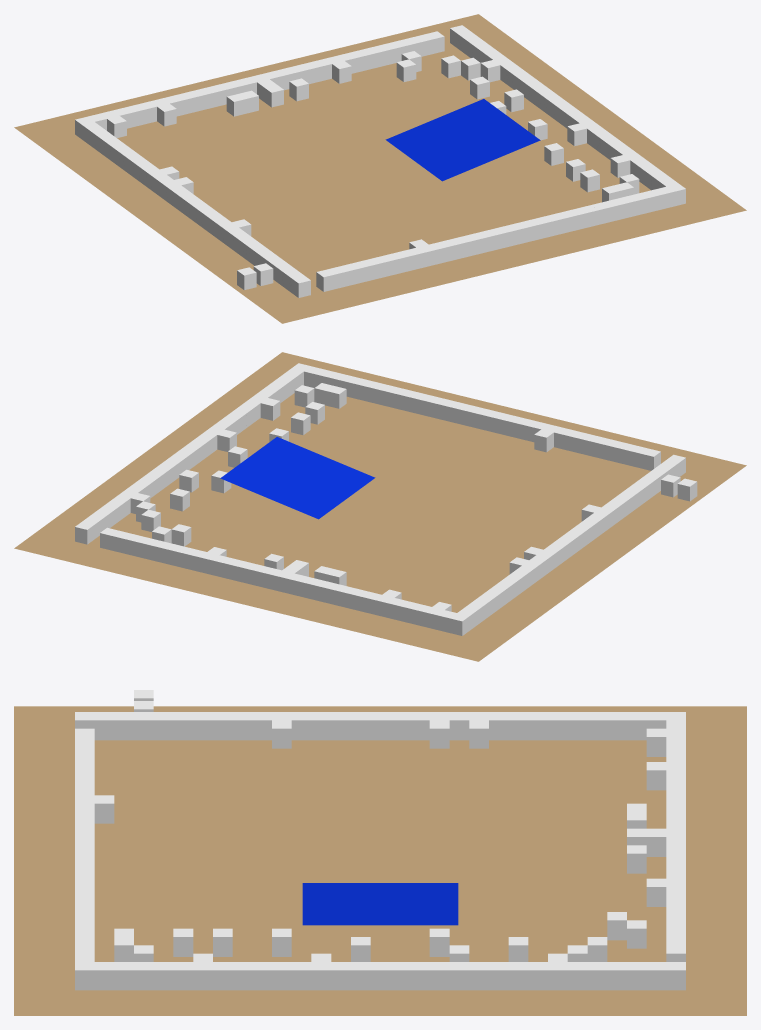
File: debug_map01.glb
3 renders of one model, top to bottom at view 1: azimuth 30°, elevation 25°; view 2: azimuth 150°, elevation 25°; view 3: azimuth 270°, elevation 25°, orthographic. The views are drawn at different scales.
Visible parts, largest first — view 1: MazeFloor, Wall_Slope_Test; view 2: MazeFloor, Wall_Slope_Test; view 3: MazeFloor, Wall_Slope_Test, Wall_10_1, Wall_1_18, Wall_0_5, Wall_26_5, Wall_30_5, Wall_0_12, Wall_30_12, Wall_26_18, Wall_30_18, Wall_0_25 (+61 smaller).
Boxes of the visible parts, x1,y1,x2,y2 form: MazeFloor: (14,14,746,323); Wall_Slope_Test: (385,99,540,181); MazeFloor: (14,352,746,661); Wall_Slope_Test: (220,437,375,519); MazeFloor: (14,706,746,1015); Wall_Slope_Test: (302,883,458,925); Wall_10_1: (94,795,114,823); Wall_1_18: (429,720,449,748); Wall_0_5: (173,712,193,740); Wall_26_5: (173,928,193,956); Wall_30_5: (173,962,193,990); Wall_0_12: (311,712,331,740); Wall_30_12: (311,962,331,990); Wall_26_18: (429,928,449,956); Wall_30_18: (429,962,449,990); Wall_0_25: (567,712,587,740).
Size of the model in its own units: 297 by 10.57 by 297.
